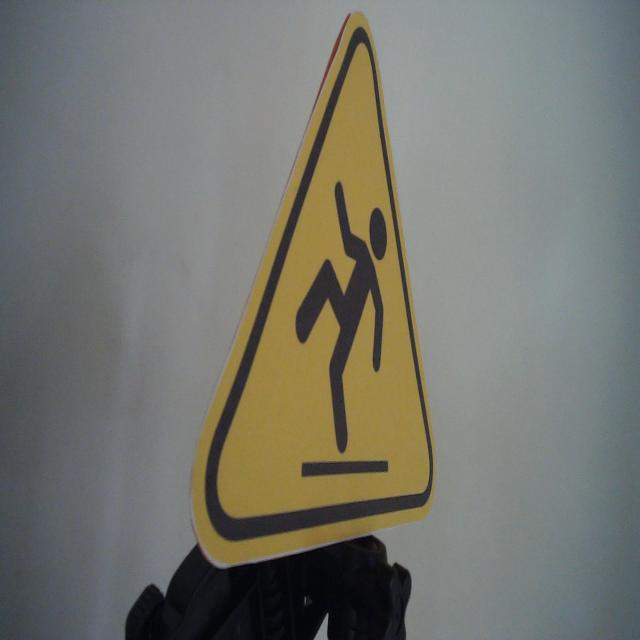slippery_sign: (188, 7, 438, 575)
